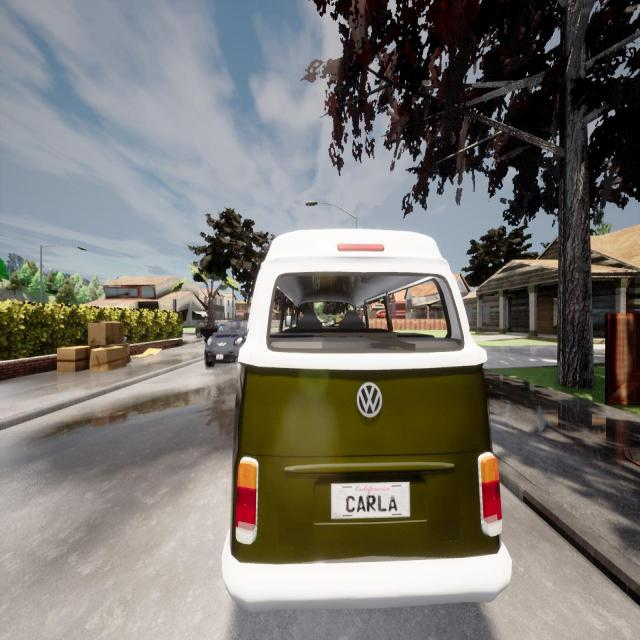Vehicle: (222, 229, 511, 610), (205, 321, 246, 367), (195, 322, 205, 338)
traffic_light: (172, 299, 176, 311)
